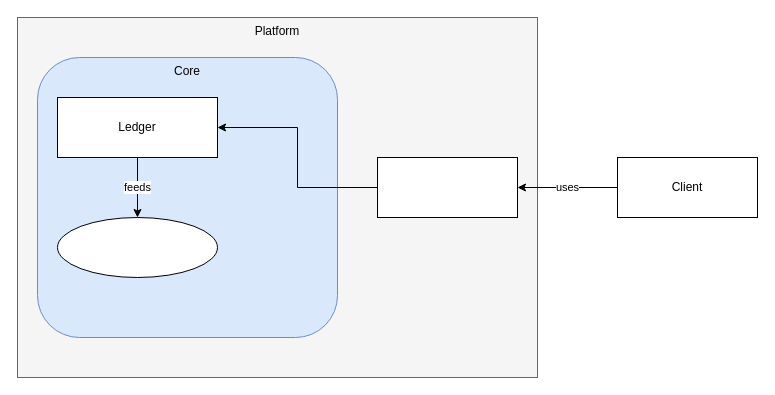
The diagram is 775 pixels wide and 395 high, and some of its shapes have lost their labels. The centre of each missing label's shape, as x and y in pixels:
Console: pixel 447 187
Ingest Gateway: pixel 137 247
